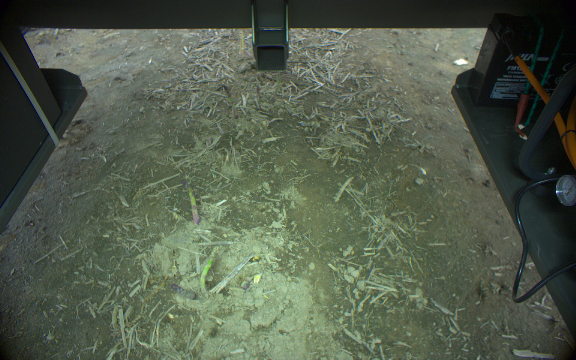aspa: (199, 247, 219, 296), (181, 176, 200, 224), (169, 282, 196, 300)
